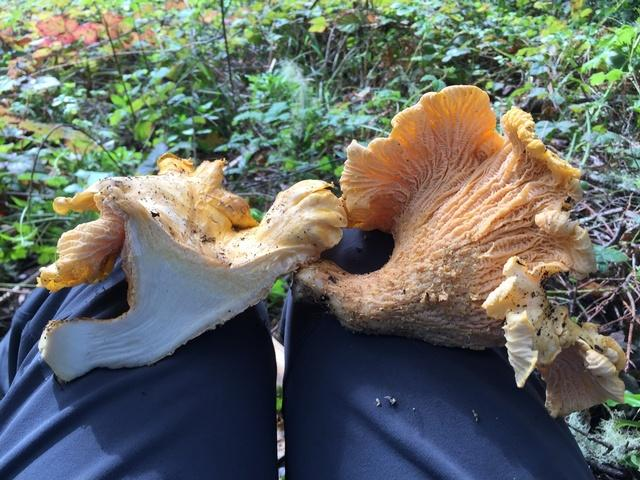Edible Mushroom: (319, 80, 627, 404), (35, 151, 348, 384)
